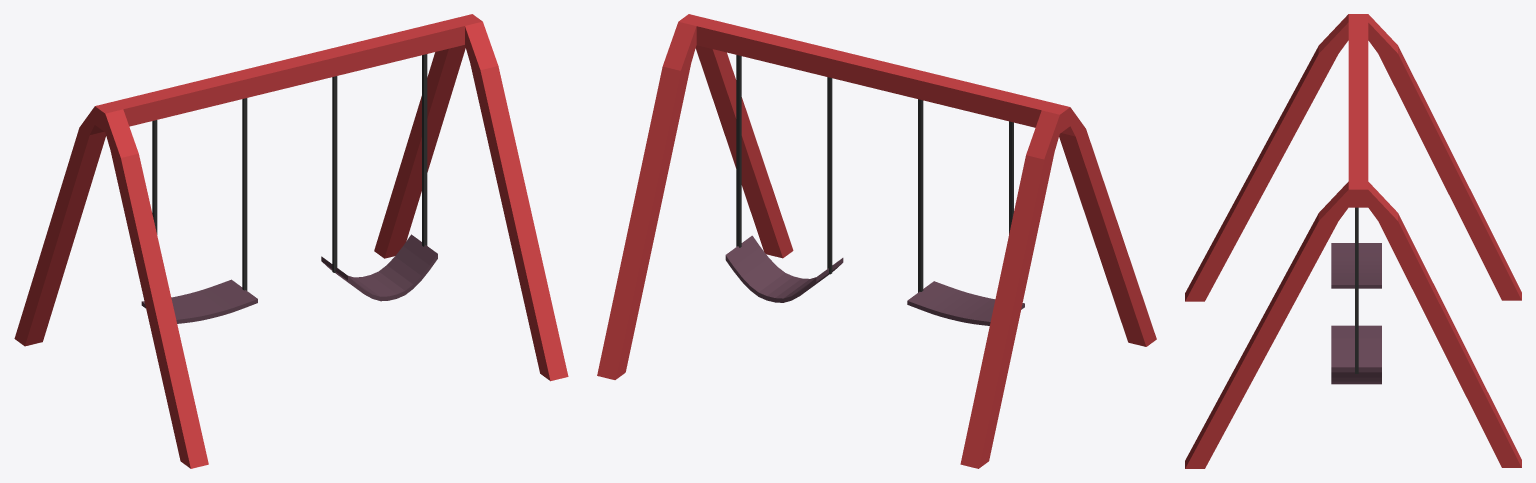
The model's file is Swingset.glb.
3 renders of one model, left to right at view 1: azimuth 30°, elevation 25°; view 2: azimuth 150°, elevation 25°; view 3: azimuth 270°, elevation 25°, orthographic. The views are drawn at different scales.
Parts seen in each view (by area): view 1: Swing, Cube.001, Cube.003, Cube, Cube.002; view 2: Swing, Cube.001, Cube.003, Cube, Cube.002; view 3: Swing, Cube.001, Cube.003, Cube.
Part boxes in pixels (x1,y1,x2,y2): Swing: (14, 14, 568, 468); Cube.001: (321, 234, 437, 301); Cube.003: (141, 279, 257, 323); Cube: (332, 54, 427, 272); Cube.002: (152, 98, 247, 290); Swing: (597, 14, 1156, 468); Cube.001: (725, 235, 843, 302); Cube.003: (907, 281, 1024, 325); Cube: (736, 55, 832, 274); Cube.002: (918, 99, 1013, 292); Swing: (1185, 14, 1521, 468); Cube.001: (1331, 325, 1381, 384); Cube.003: (1331, 243, 1381, 288); Cube: (1355, 207, 1358, 373).
Size of the model in its own units: 8.4 by 6.22 by 6.8.
